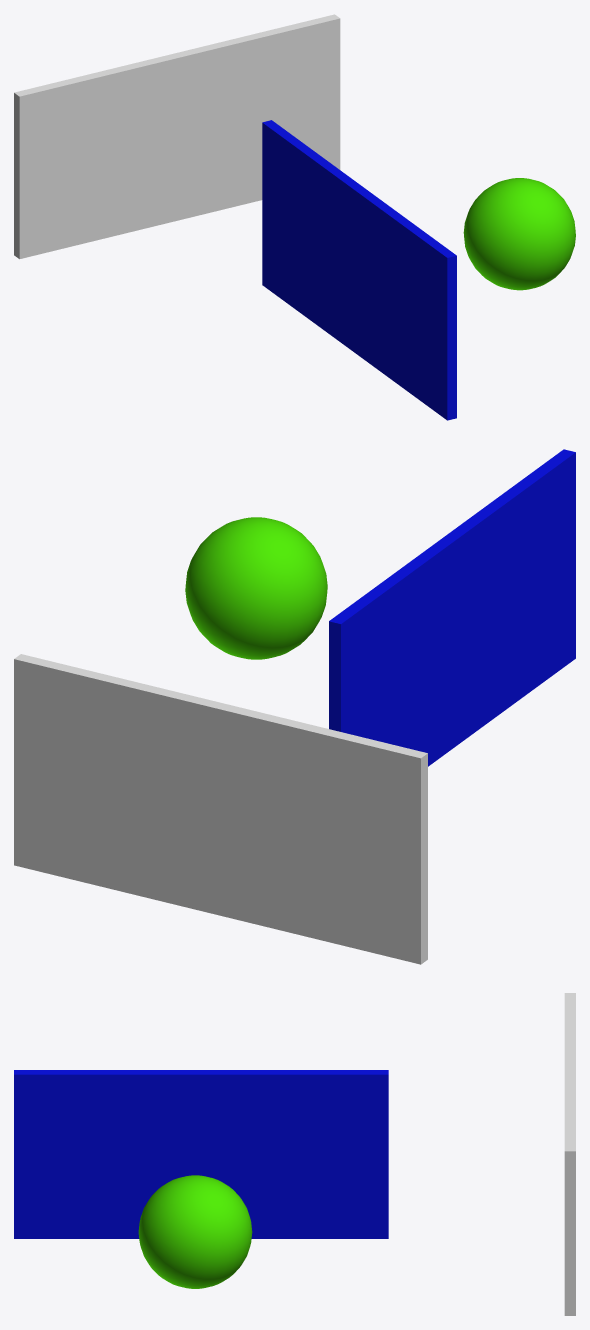
File: lightreflext.gltf
The picture shows the model from 3 angles, top to bottom: view 1: azimuth 30°, elevation 25°; view 2: azimuth 150°, elevation 25°; view 3: azimuth 270°, elevation 25°; orthographic projection. The views are drawn at different scales.
Visible parts, largest first — view 1: Cube, Cube.001, Sphere; view 2: Cube, Cube.001, Sphere; view 3: Cube.001, Sphere, Cube.
Boxes of the visible parts, x1,y1,x2,y2 form: Cube: [14, 14, 340, 259]; Cube.001: [262, 120, 456, 420]; Sphere: [463, 178, 575, 290]; Cube: [14, 654, 427, 964]; Cube.001: [329, 449, 575, 766]; Sphere: [185, 517, 327, 659]; Cube.001: [14, 1070, 388, 1238]; Sphere: [138, 1175, 252, 1288]; Cube: [564, 993, 575, 1315].
Bounding box in the file's own units: 4.72 × 2 × 6.19.
